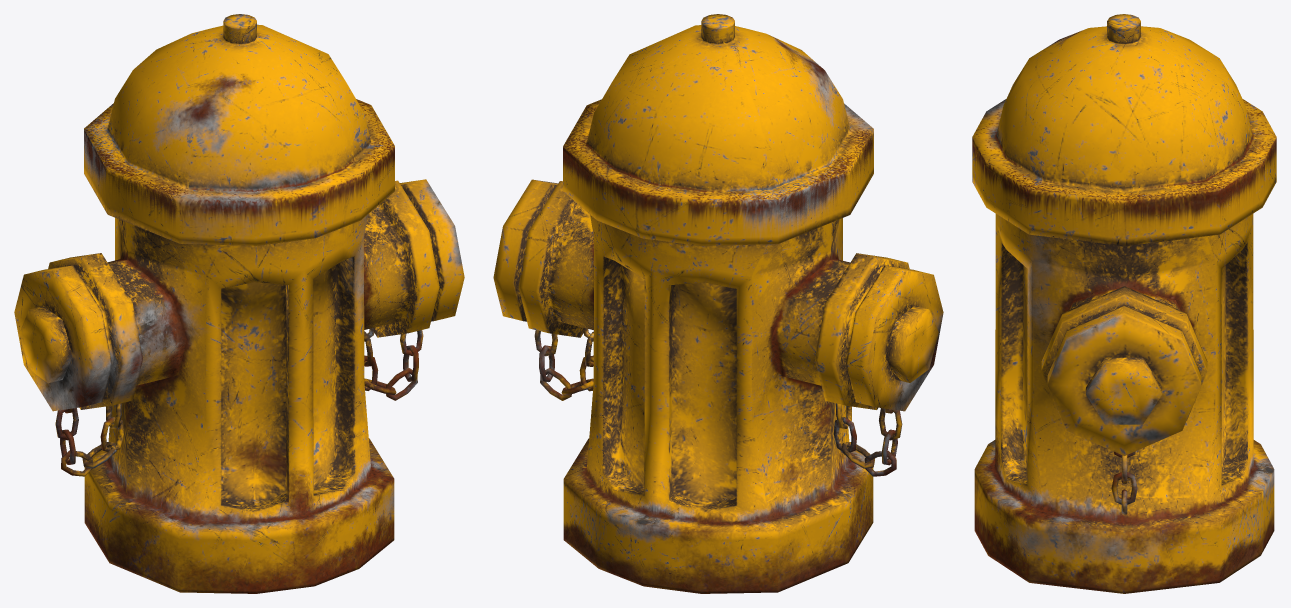
Rendered from hidrante_low_poly.glb.
The picture shows the model from 3 angles, left to right: view 1: azimuth 30°, elevation 25°; view 2: azimuth 150°, elevation 25°; view 3: azimuth 270°, elevation 25°; orthographic projection.
Parts seen in each view (by area): view 1: Hydrant_low_0; view 2: Hydrant_low_0; view 3: Hydrant_low_0.
Boxes of the visible parts, box(x1,y1,x2,y2) form: Hydrant_low_0: box(14, 14, 464, 593); Hydrant_low_0: box(493, 14, 943, 593); Hydrant_low_0: box(972, 14, 1276, 593).
Size of the model in its own units: 3.09 by 3.75 by 2.03.
1 material, 1 textured.
